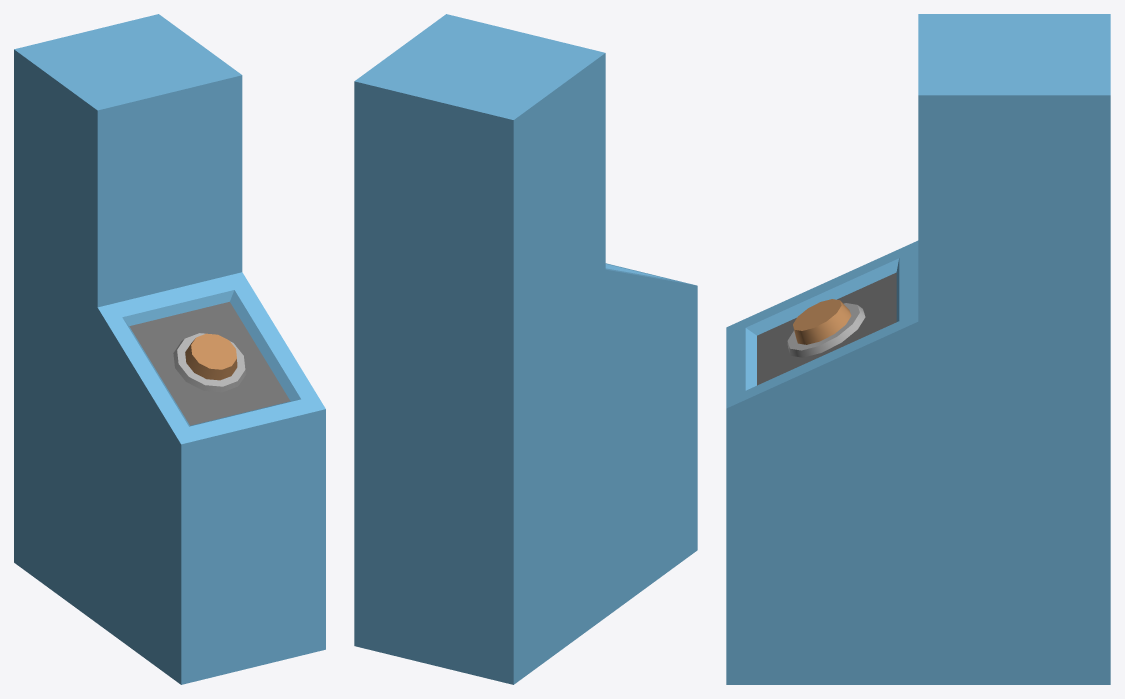
The model's file is button terminal.fbx.
3 views of the same model, side by side, from view 1: azimuth 30°, elevation 25°; view 2: azimuth 150°, elevation 25°; view 3: azimuth 270°, elevation 25° (orthographic). The views are drawn at different scales.
Visible parts, largest first — view 1: Button terminal; view 2: Button terminal; view 3: Button terminal.
Boxes of the visible parts, box(x1,y1,x2,y2) form: Button terminal: box(14, 14, 325, 684); Button terminal: box(354, 14, 697, 684); Button terminal: box(726, 14, 1110, 684).
Size of the model in its own units: 50 by 169 by 100.
